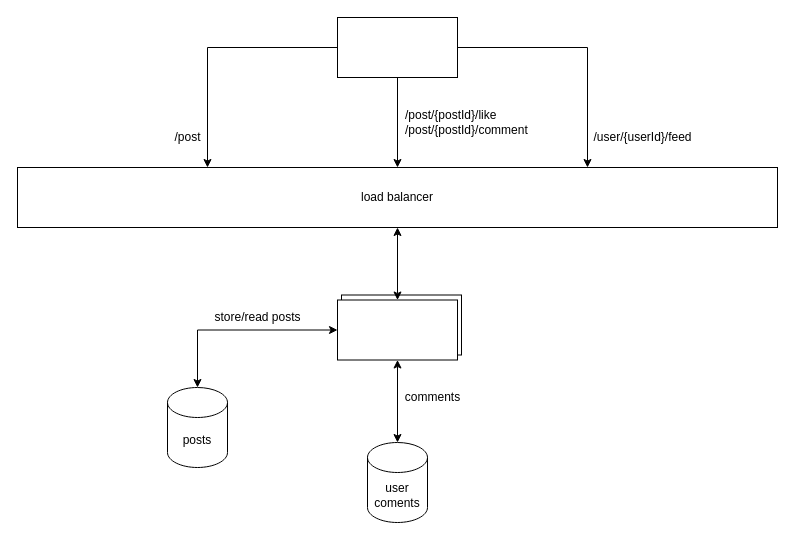
Some shapes in this 795 by 540 pixel diagram are drawn without their labels. Each missing label, with the centre of its shape:
"client" goes at pixel 397 47.
"post service" goes at pixel 397 329.
